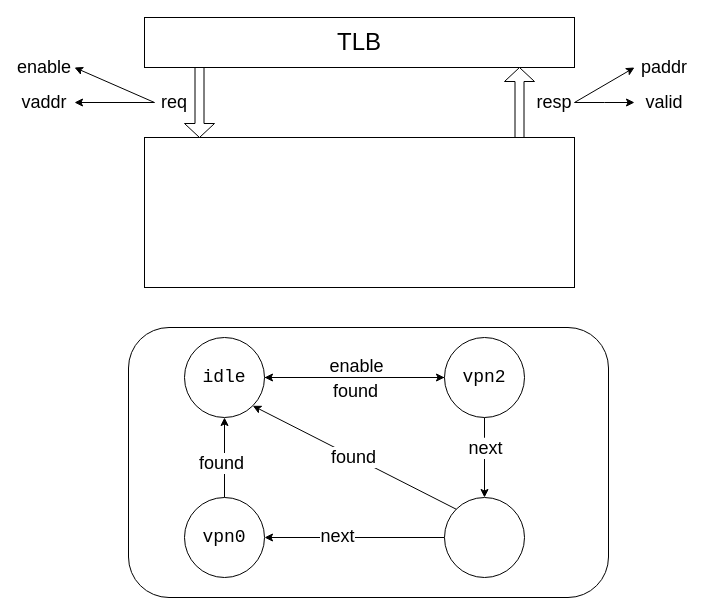
The diagram is 704 pixels wide and 615 high, and some of its shapes have lost their labels. The shapes that lost their labels are listed below. From the top down, each one's centre as x and y in pixels, then its label:
(x=359, y=212): PTW
(x=484, y=537): vpn1
